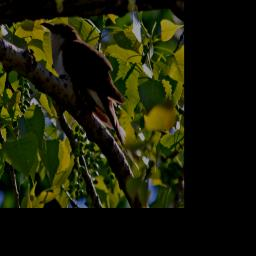Cuckoo: (40, 20, 129, 161)
